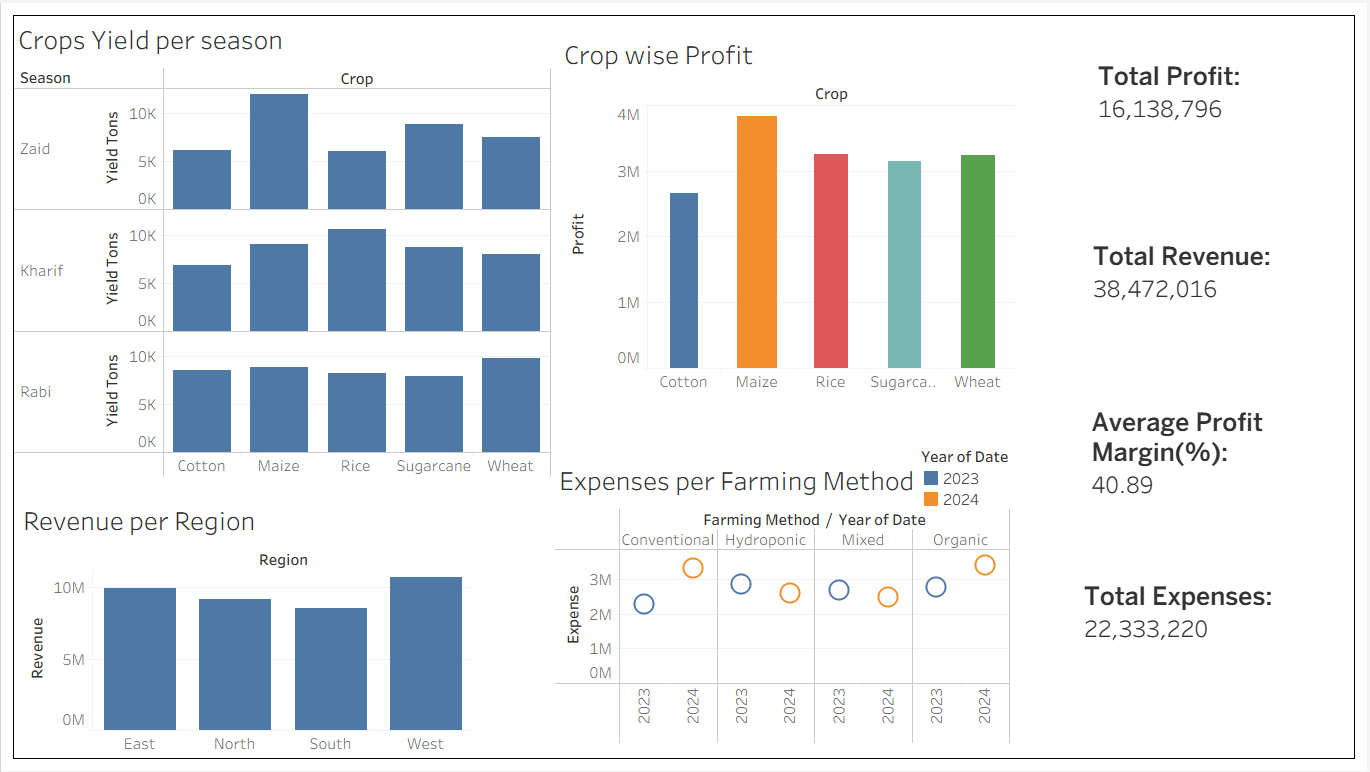

Layout of this report page (visuals, bound fields, positions):
{"tool":"tableau","page":{"name":"Dashboard 1","canvas":[1366,768],"ordinal":0},"visuals":[{"type":"dashboard-object","param":"[com.tableau.addfilters].[0.0.0].[https://extensions.tableauusercontent.com/sand","box":[8,8,1350,752]},{"type":"worksheet","title":"Sheet 1","mark":"Automatic","rows":["Season","Yield_Tons"],"cols":["Crop"],"box":[13,15,537,460]},{"type":"worksheet","title":"Sheet 2","mark":"Bar","rows":["Profit"],"cols":["Crop"],"box":[559,30,455,360]},{"type":"worksheet","title":"Sheet 5","mark":"Automatic","box":[1093,59,211,98]},{"type":"worksheet","title":"Sheet 6","mark":"Automatic","box":[1088,239,217,130]},{"type":"worksheet","title":"Sheet 7","mark":"Automatic","box":[1086,388,247,162]},{"type":"legend","title":"Sheet 4","param":"[federated.1yd0a4401nv40g1b982zd1ax3c2g].[tyr:Date:ok]","box":[920,443,99,65]},{"type":"worksheet","title":"Sheet 4","mark":"Shape","rows":["Expense"],"cols":["Farming_Method","Date"],"box":[554,456,455,285]},{"type":"worksheet","title":"Sheet 3","mark":"Automatic","rows":["Revenue"],"cols":["Region"],"box":[18,496,455,256]},{"type":"worksheet","title":"Sheet 8","mark":"Automatic","box":[1079,579,254,146]}]}

Visuals, with their boxes in screenshot pixels (x1, y1, x2, y2), scaled from the page's 1366x768 canvas onto the 1370x772 screenshot:
dashboard-object: 8,8,1362,764
"Sheet 1" worksheet: 13,15,552,477
"Sheet 2" worksheet (Bar marks): 561,30,1017,392
"Sheet 5" worksheet: 1096,59,1308,158
"Sheet 6" worksheet: 1091,240,1309,371
"Sheet 7" worksheet: 1089,390,1337,553
"Sheet 4" legend: 923,445,1022,511
"Sheet 4" worksheet (Shape marks): 556,458,1012,745
"Sheet 3" worksheet: 18,499,474,756
"Sheet 8" worksheet: 1082,582,1337,729
